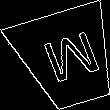M_S: (33, 27, 102, 90)
